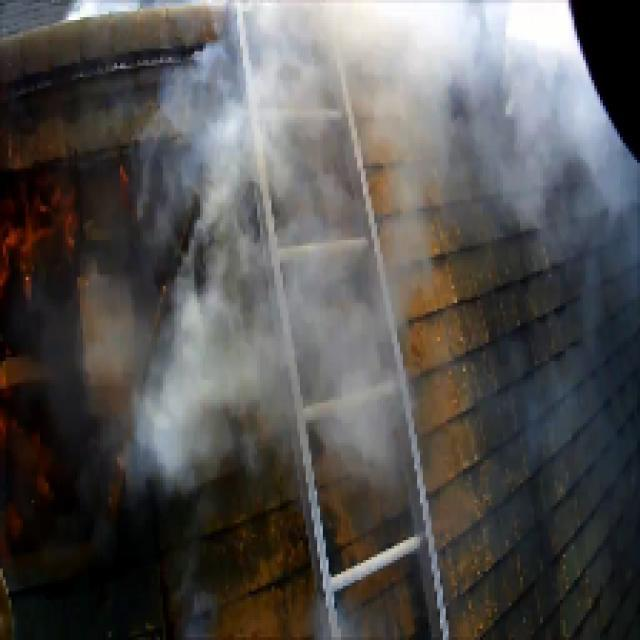Smoke: (254, 7, 582, 148), (156, 222, 324, 460)
